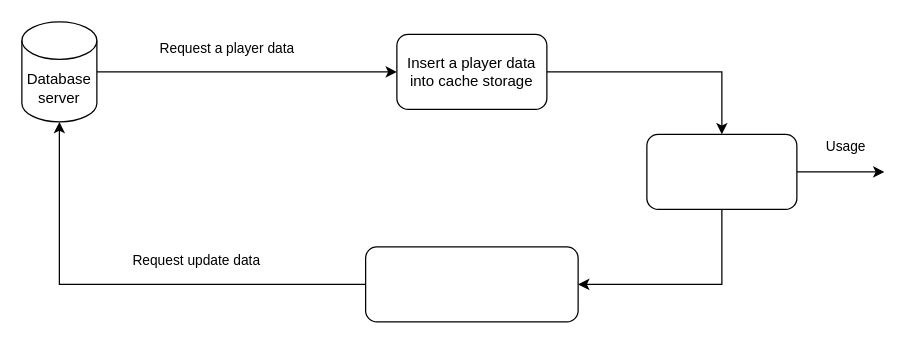
Some shapes in this 916 by 344 pixel diagram are drawn without their labels. The shapes that lost their labels are listed below. From the top down, each one's centre as x and y in pixels, then its label:
At [721,171]: "Bukkit Interface".
At [471,284]: "User request update point".
